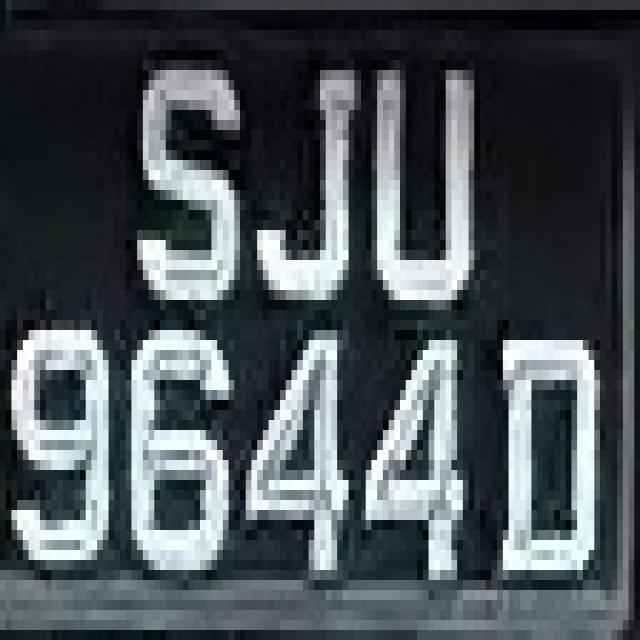4: (228, 320, 366, 600), (354, 310, 492, 590)
6: (115, 300, 252, 600)
9: (6, 290, 131, 620)
D: (497, 310, 606, 600)
J: (257, 0, 372, 310)
S: (115, 30, 252, 320)
U: (360, 20, 491, 320)
